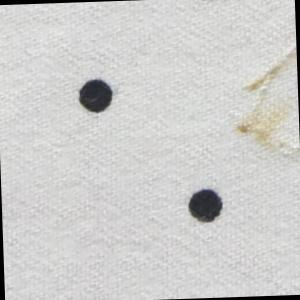Oil Stain: (228, 41, 300, 168)
